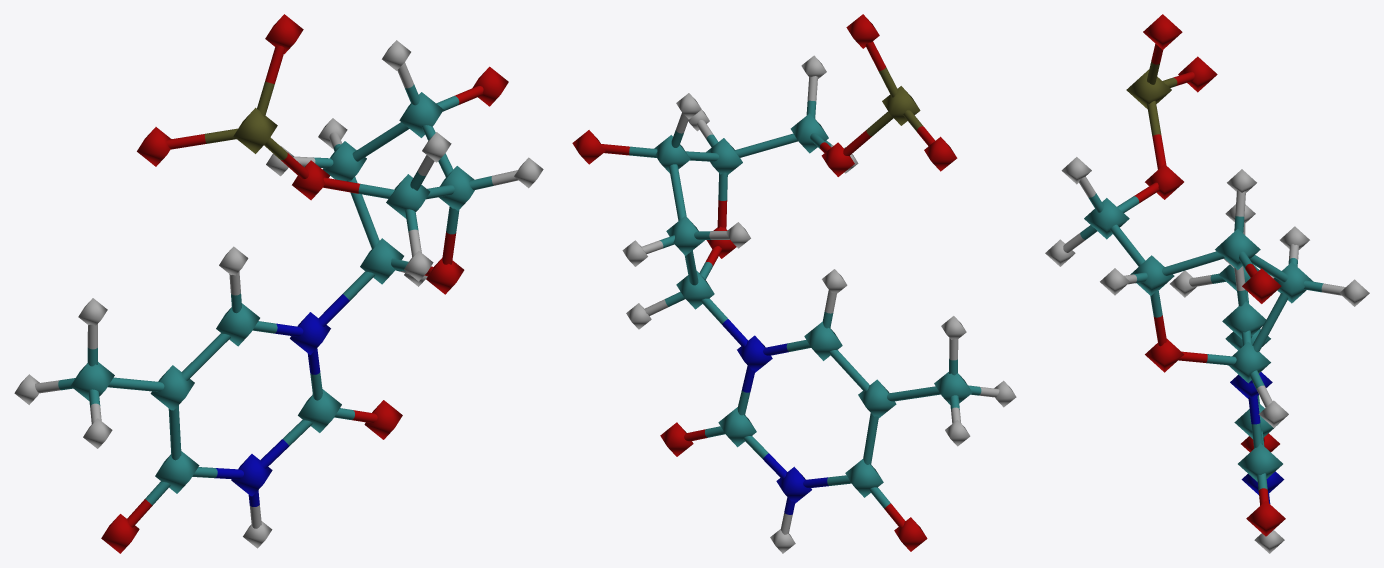
Rendered from thymine.obj.
The picture shows the model from 3 angles, left to right: view 1: azimuth 30°, elevation 25°; view 2: azimuth 150°, elevation 25°; view 3: azimuth 270°, elevation 25°; orthographic projection. The views are drawn at different scales.
Visible parts, largest first — view 1: vmd_mol1_rep0; view 2: vmd_mol1_rep0; view 3: vmd_mol1_rep0.
Boxes of the visible parts, x1=… form: vmd_mol1_rep0: x1=14, y1=14, x2=543, y2=553; vmd_mol1_rep0: x1=572, y1=14, x2=1016, y2=553; vmd_mol1_rep0: x1=1045, y1=14, x2=1369, y2=553.
Size of the model in its own units: 1.36 by 1.6 by 0.895.
